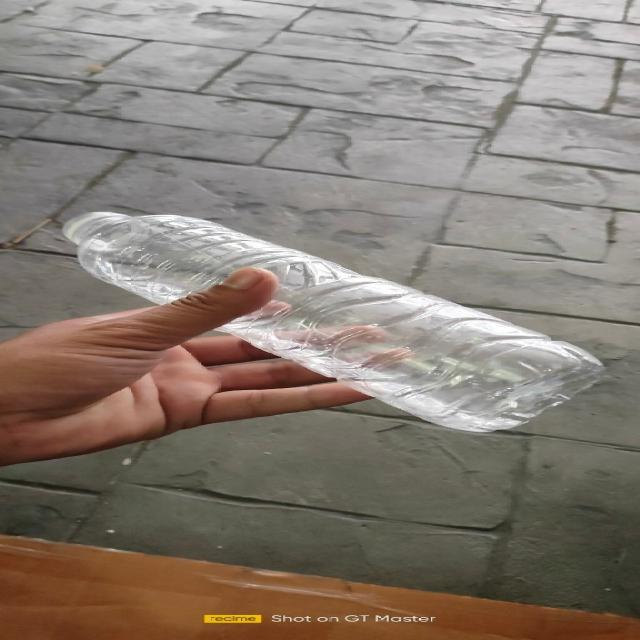plastic_bottle: (65, 210, 608, 432)
